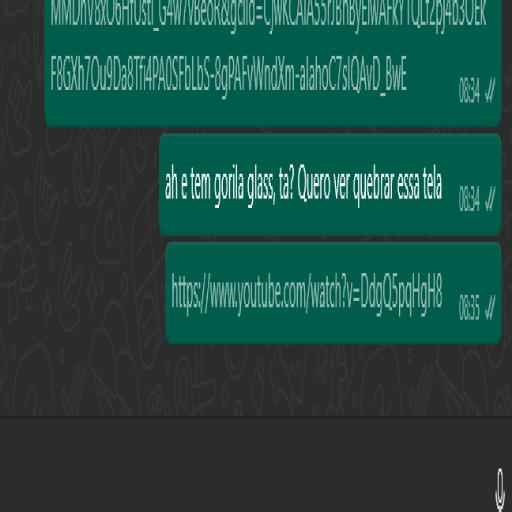mensagem-enviada: (152, 133, 501, 233)
